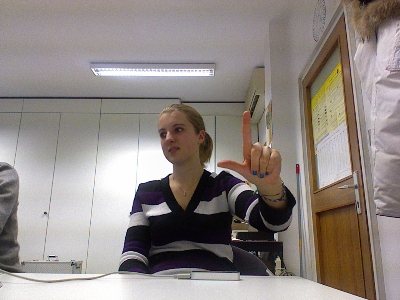枪: (216, 109, 281, 187)
